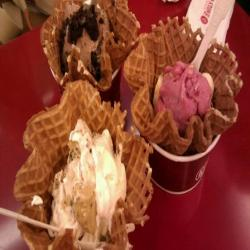icecream: (30, 122, 144, 243), (146, 54, 225, 135)
